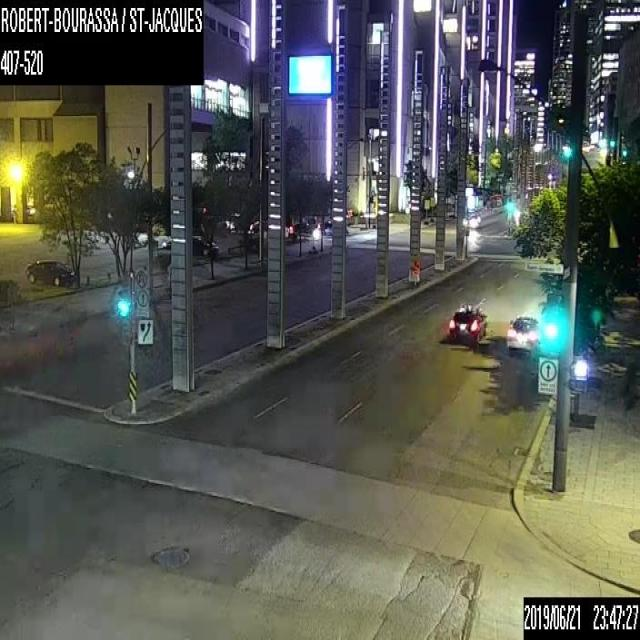construction: (411, 260, 418, 286)
vehicle: (449, 308, 486, 344), (25, 260, 76, 286), (507, 315, 539, 349), (192, 234, 218, 256), (463, 210, 480, 229)
